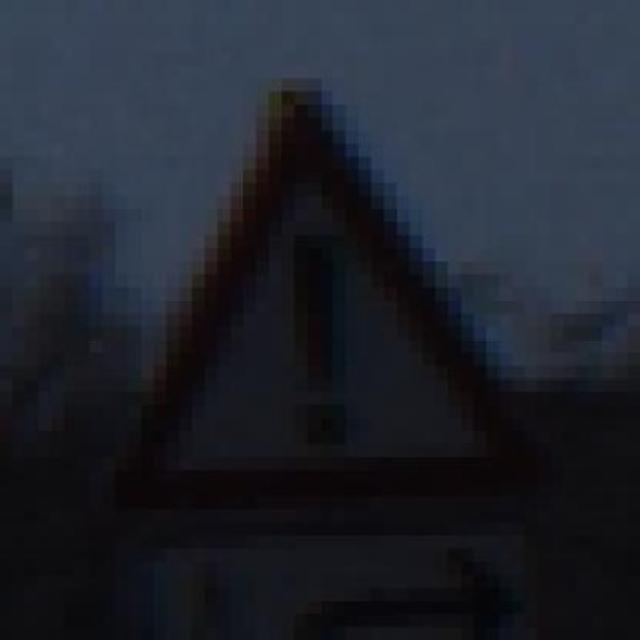Attention Please-: (69, 59, 569, 542)
